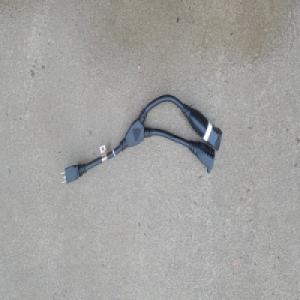Wire: (59, 92, 223, 186)
